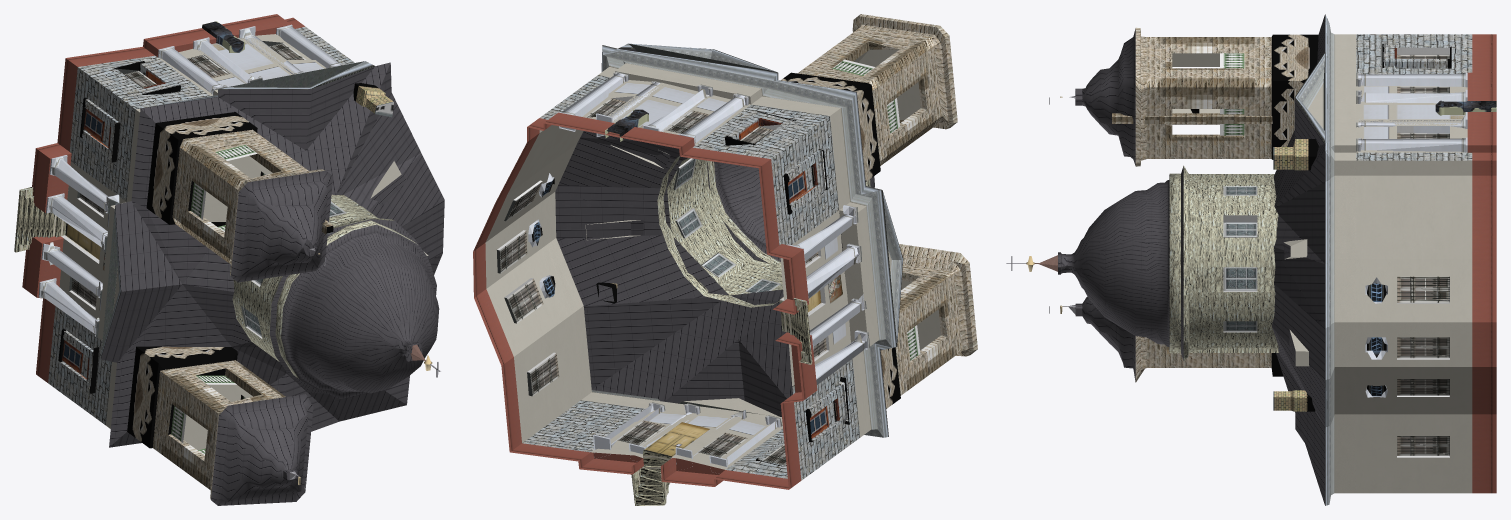
File: Vene_24-origo.obj
3 renders of one model, left to right at view 1: azimuth 30°, elevation 25°; view 2: azimuth 150°, elevation 25°; view 3: azimuth 270°, elevation 25°, orthographic.
Parts seen in each view (by area): view 1: Vene_24; view 2: Vene_24; view 3: Vene_24.
Part boxes in pixels (<box>): Vene_24: <box>14,14,444,505</box>; Vene_24: <box>473,14,977,505</box>; Vene_24: <box>1006,14,1496,505</box>.
Bounding box in the file's own units: 23.94 × 25 × 29.48.
